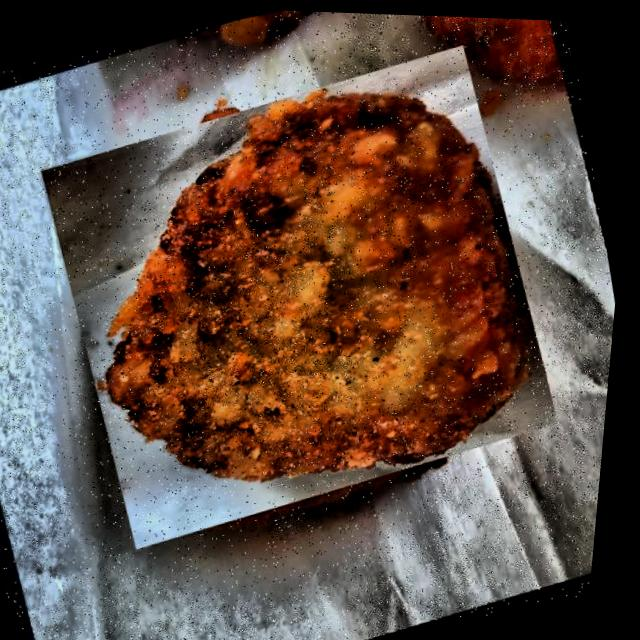Food: (14, 14, 596, 573)
